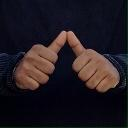hand: (66, 30, 120, 93), (13, 30, 66, 91)
